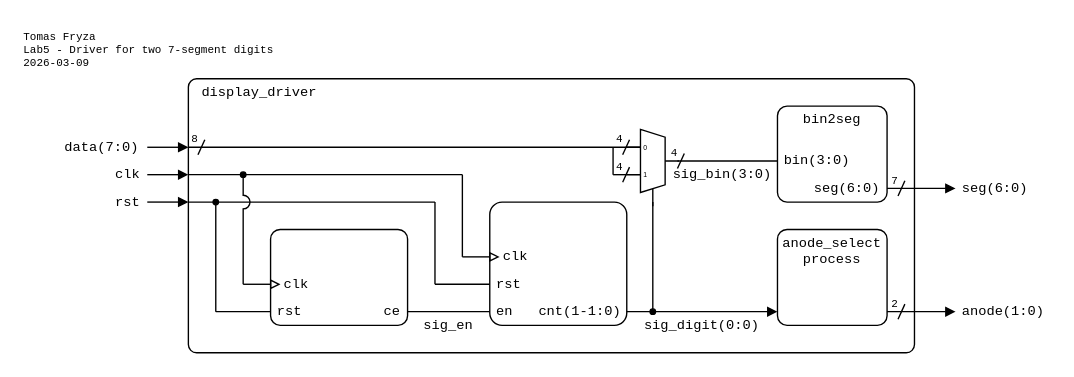
The diagram is 1074 pixels wide and 377 high, and some of its shapes have lost their labels. The box of each missing label's shape, as (x1, y1, x2, y2) in pixels:
clk_en G_MAX=1_600_000: (269, 228, 408, 325)
counter G_BITS = 1: (488, 201, 627, 325)
